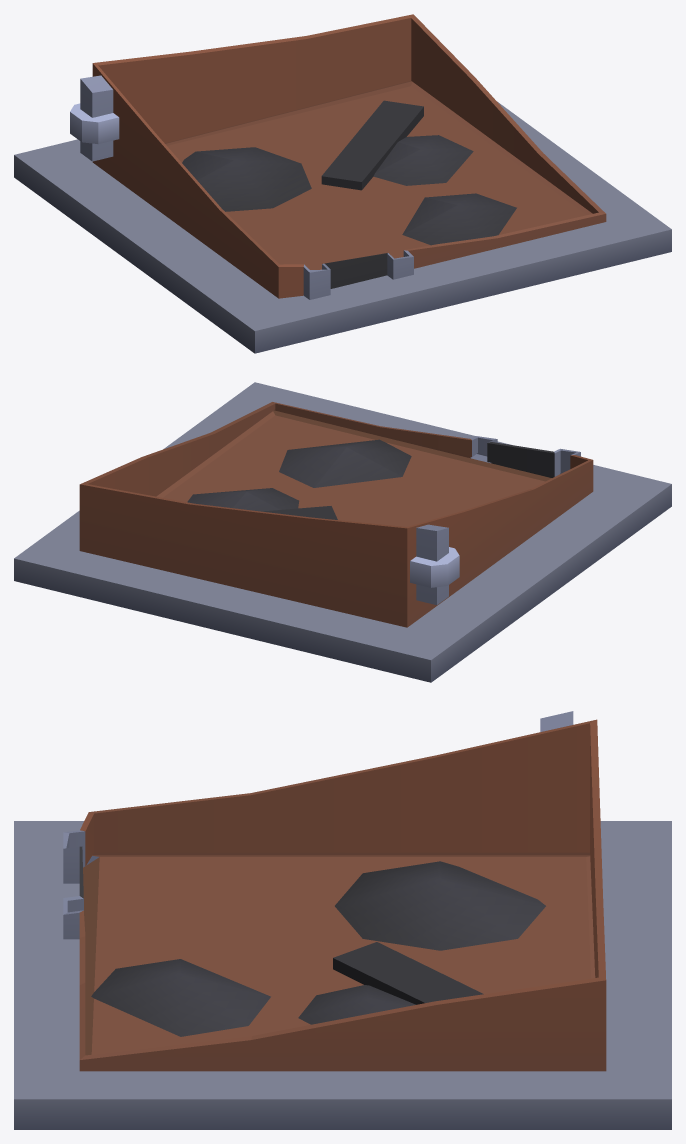
The model's file is building_remains.glb.
The picture shows the model from 3 angles, top to bottom: view 1: azimuth 30°, elevation 25°; view 2: azimuth 150°, elevation 25°; view 3: azimuth 270°, elevation 25°; orthographic projection. The views are drawn at different scales.
Visible parts, largest first — view 1: building-small-d; view 2: building-small-d; view 3: building-small-d.
Part boxes in pixels (x1,y1,x2,y2): building-small-d: [14, 14, 671, 353]; building-small-d: [14, 382, 671, 682]; building-small-d: [14, 711, 671, 1129].
Bounding box in the file's own units: 1 × 0.2792 × 1.
1 material, 1 textured.
